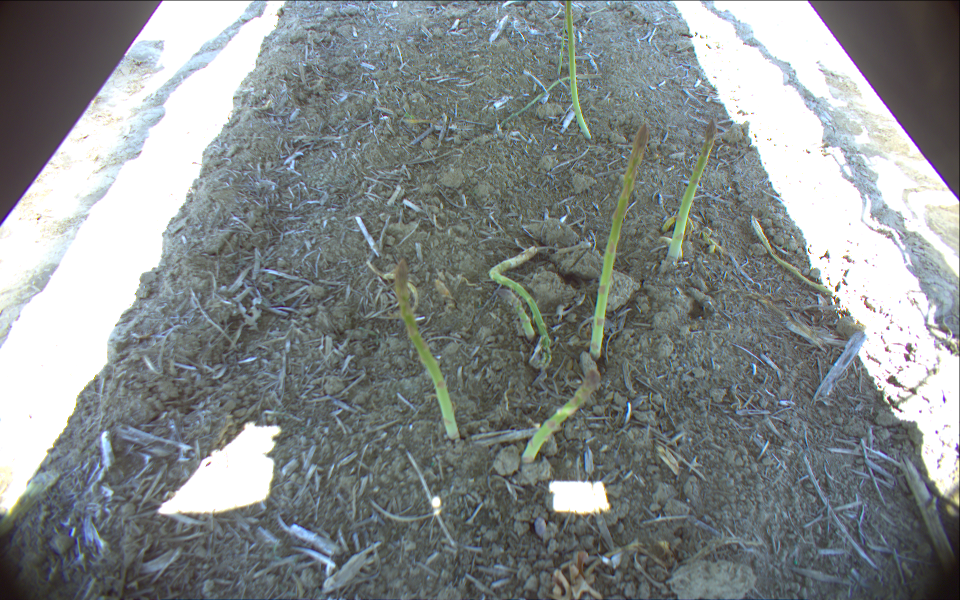aspa: (585, 122, 650, 361), (390, 255, 461, 442), (663, 117, 718, 266), (517, 367, 602, 463), (563, 1, 595, 139)
